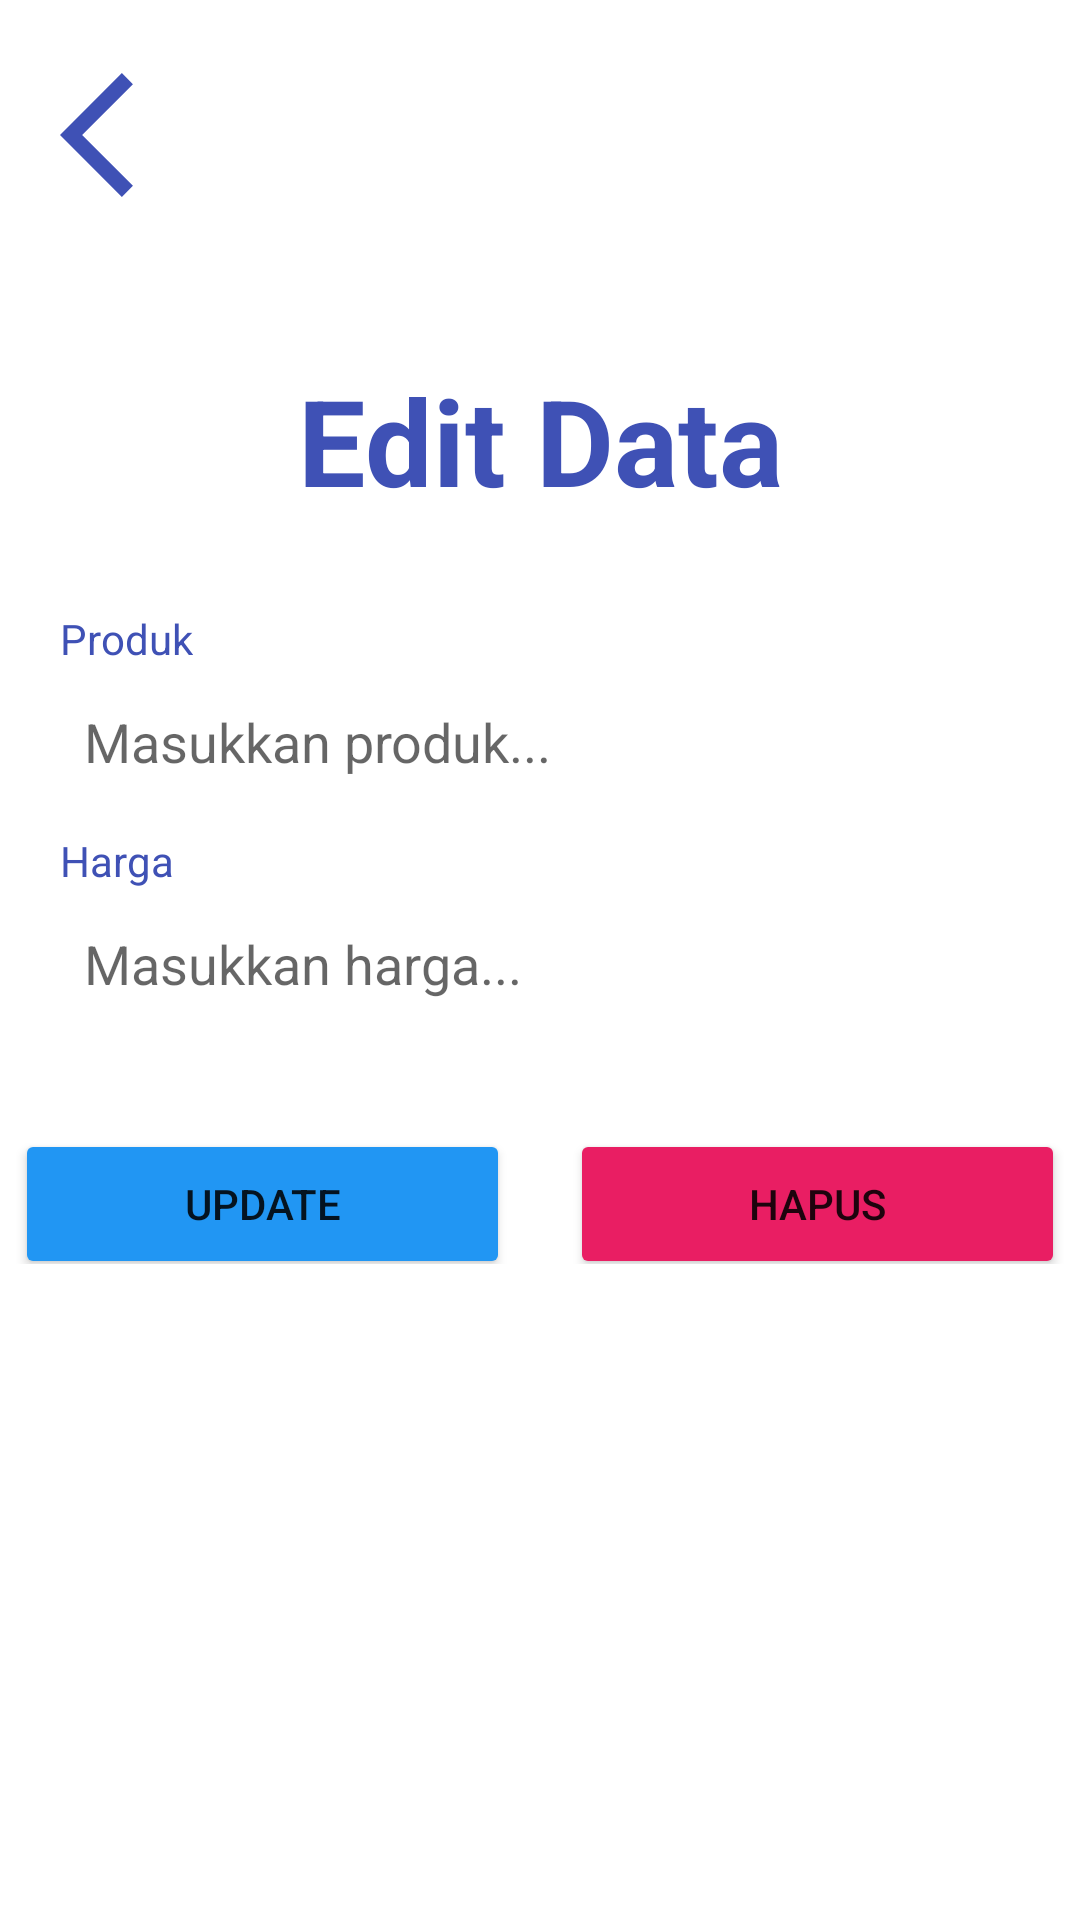

Locate icon controls on the screen. Image size 1080 × 1920, boxes as [x1, y1, x2, y2].
back: [60, 73, 133, 197]
